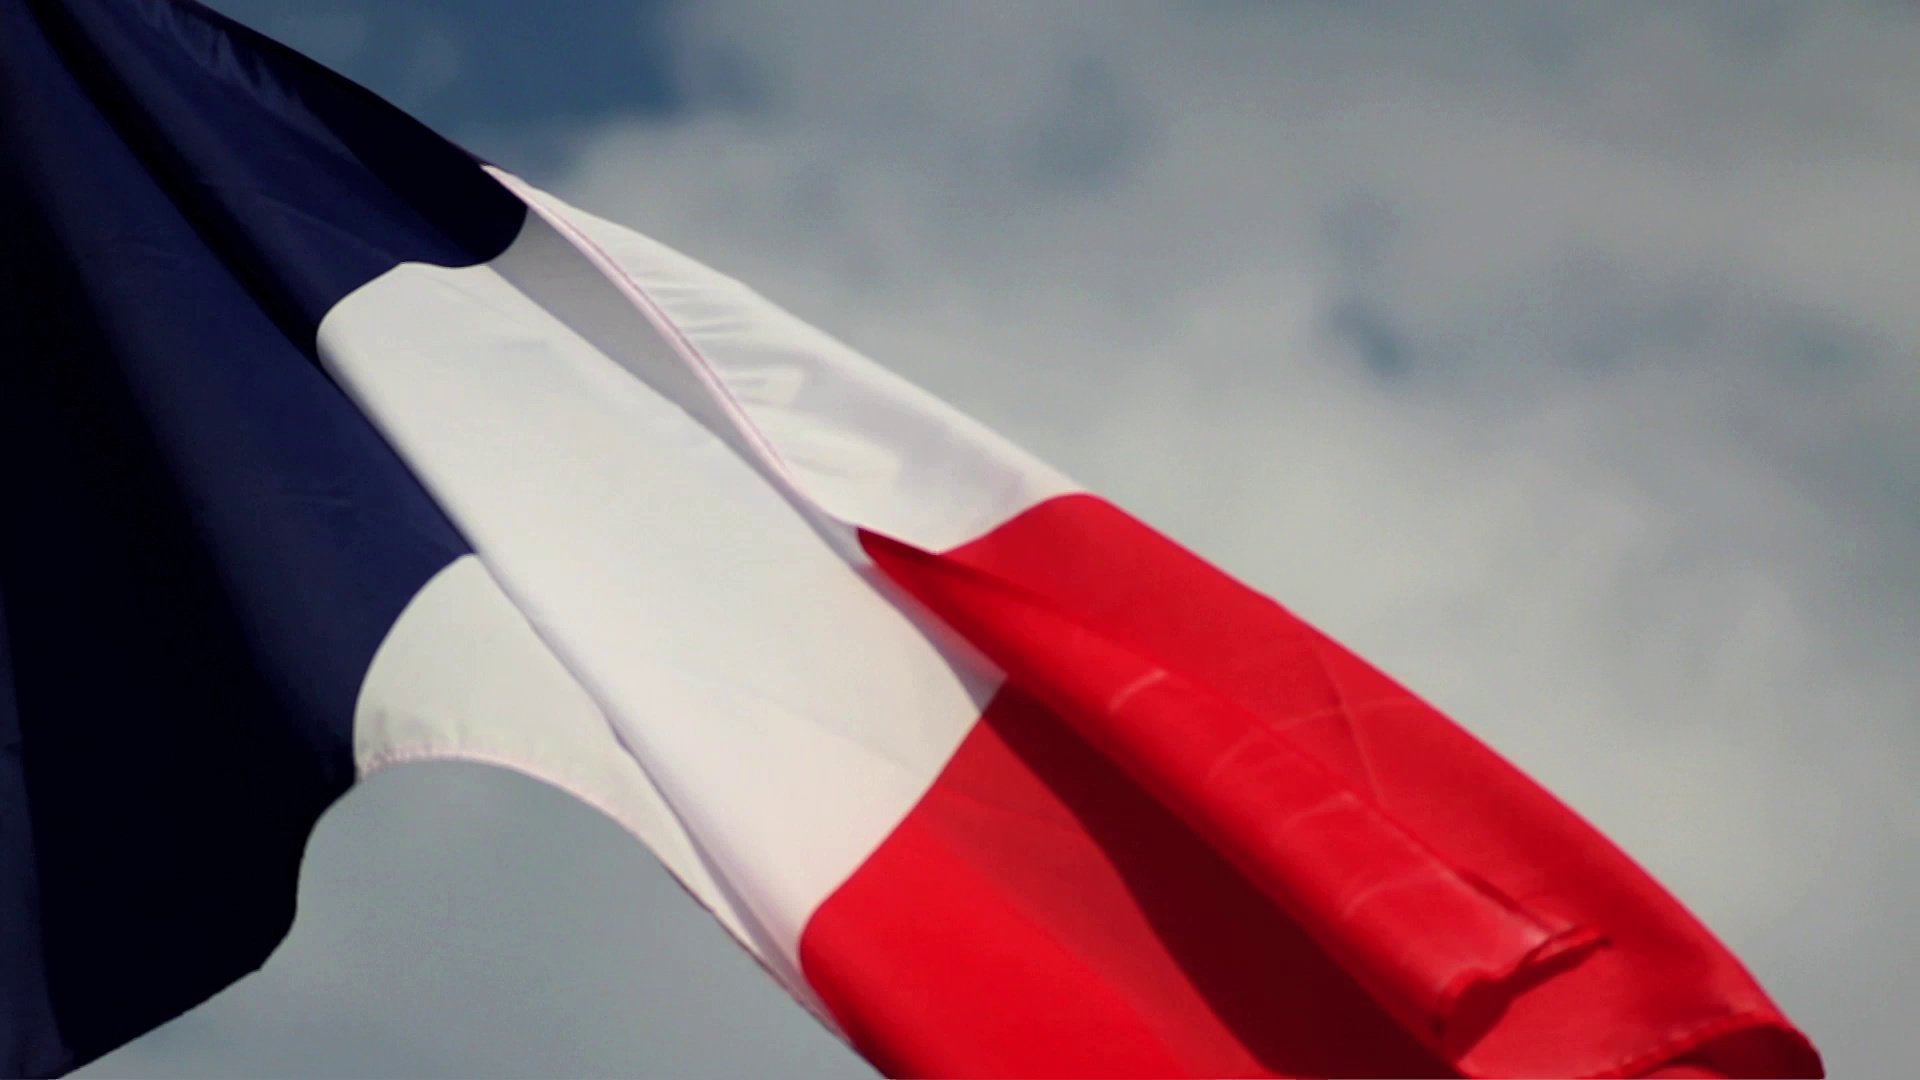French Flag: (1, 1, 1821, 1080)
